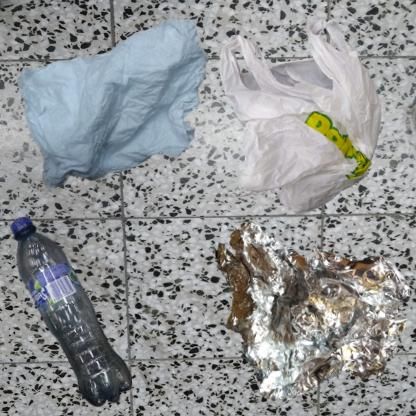aluminio: (213, 213, 416, 406)
bolsa: (213, 10, 403, 233)
botella: (10, 213, 133, 412)
papel: (10, 10, 246, 206)
